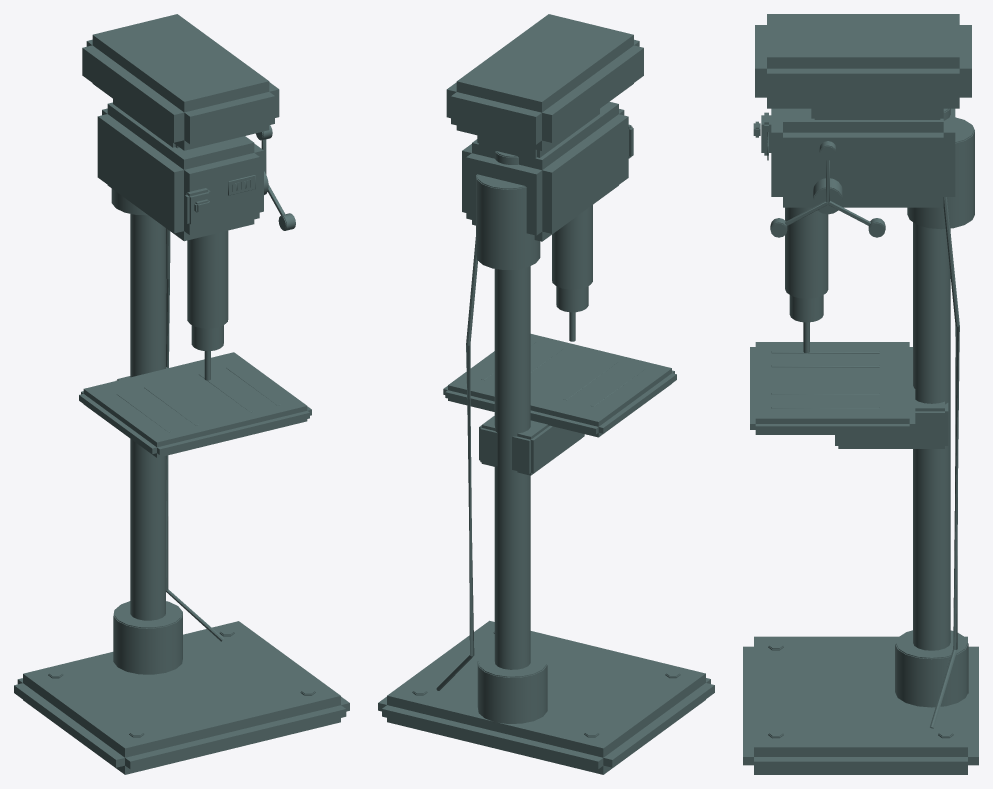
The model's file is OBJ-019_TaladroFijo.fbx.
The picture shows the model from 3 angles, left to right: view 1: azimuth 30°, elevation 25°; view 2: azimuth 150°, elevation 25°; view 3: azimuth 270°, elevation 25°; orthographic projection. The views are drawn at different scales.
Parts seen in each view (by area): view 1: GEO-OBJ-019_TaladroFijo.004; view 2: GEO-OBJ-019_TaladroFijo.004; view 3: GEO-OBJ-019_TaladroFijo.004.
Boxes of the visible parts, box(x1,y1,x2,y2) form: GEO-OBJ-019_TaladroFijo.004: box(14, 14, 349, 774); GEO-OBJ-019_TaladroFijo.004: box(378, 14, 714, 774); GEO-OBJ-019_TaladroFijo.004: box(743, 14, 978, 774).
Size of the model in its own units: 0.6 by 1.6 by 0.5.
